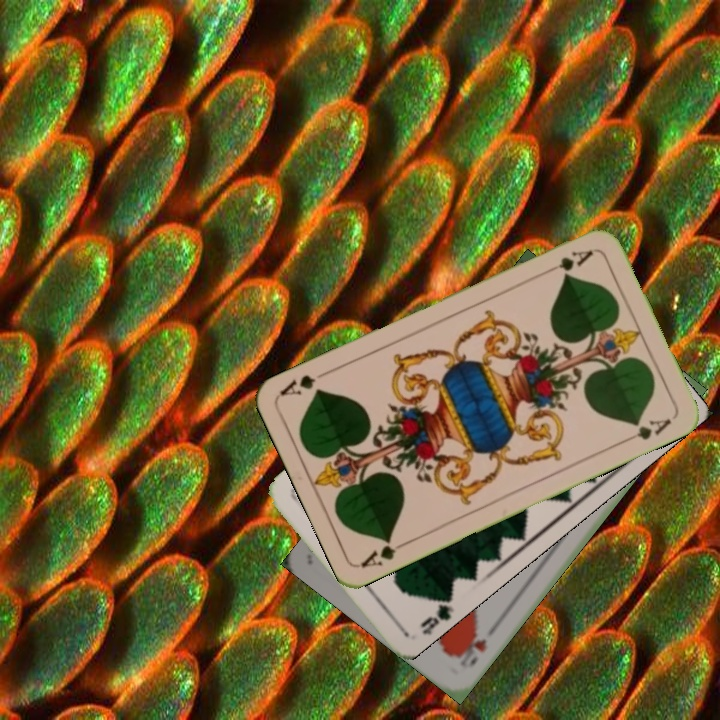G9: (416, 592, 457, 637)
GA: (358, 535, 413, 571), (541, 245, 596, 278)
HO: (453, 629, 490, 670)
